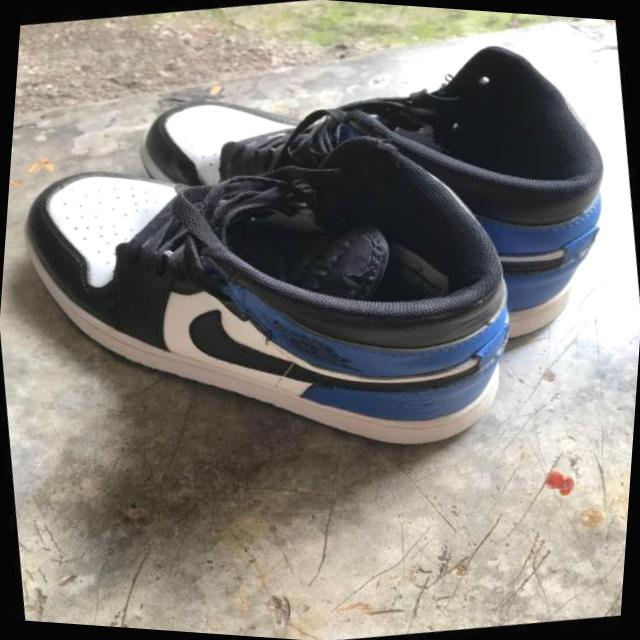nike_fake_jordan: (0, 88, 548, 515), (108, 2, 639, 406)
